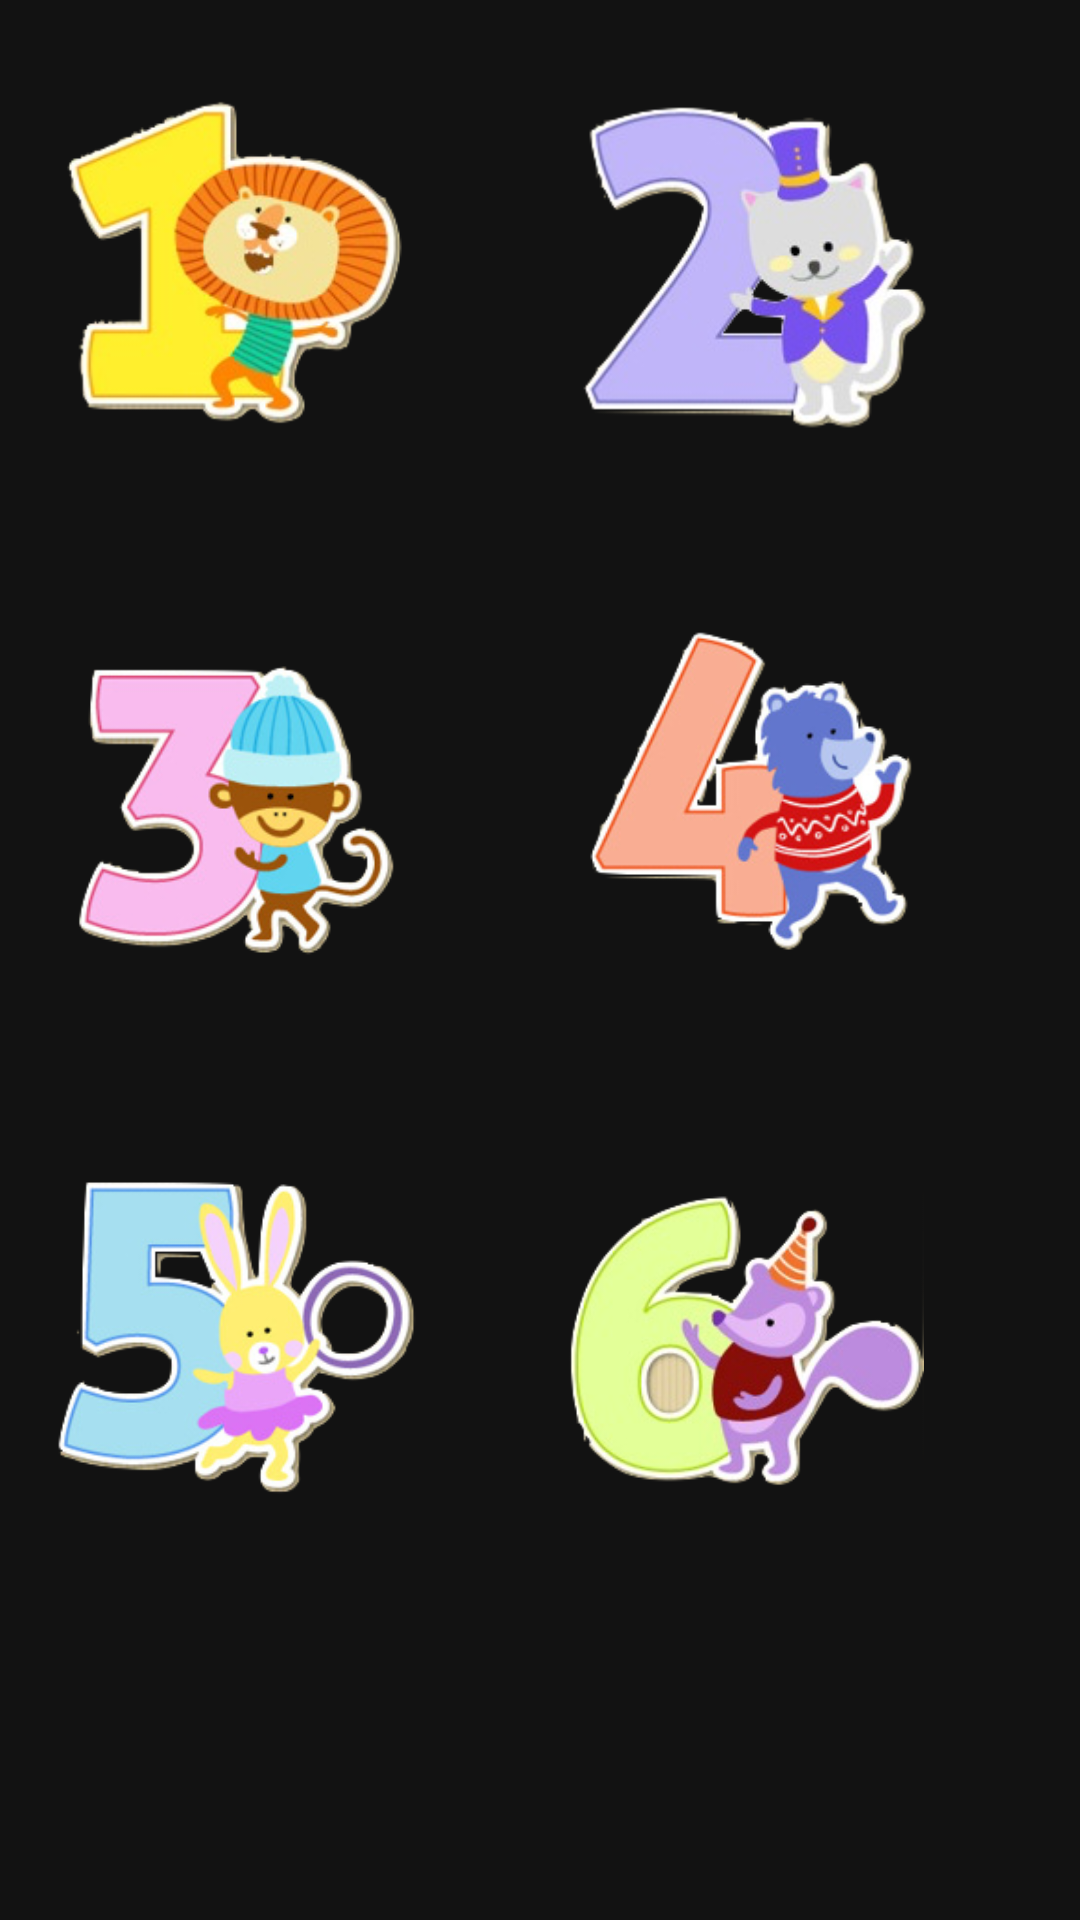

Named icons in this screenshot (1080 × 1920) and their bounding boxes, (x1, y1, x2, y2):
cinco: (58, 1182, 414, 1492)
dois: (584, 107, 926, 428)
quatro: (590, 632, 911, 950)
seis: (570, 1196, 924, 1485)
tres: (79, 666, 394, 954)
